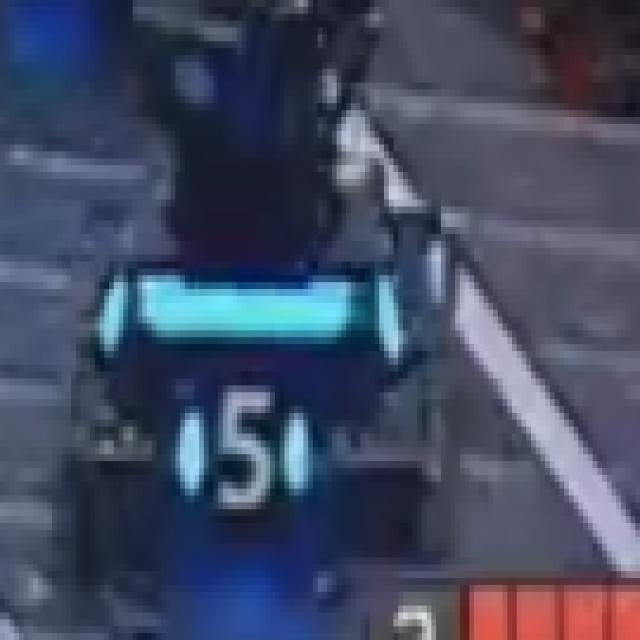B5: (166, 386, 308, 510)
